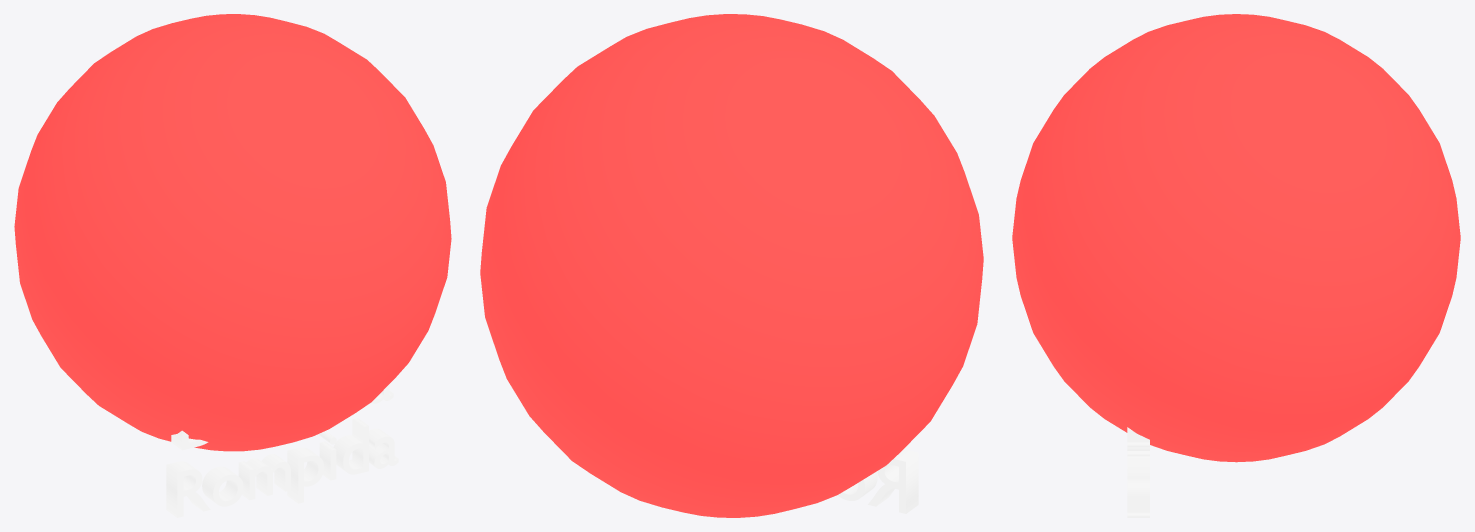
The model's file is correia-dentada-rompida.glb.
3 views of the same model, side by side, from view 1: azimuth 30°, elevation 25°; view 2: azimuth 150°, elevation 25°; view 3: azimuth 270°, elevation 25° (orthographic). The views are drawn at different scales.
Parts seen in each view (by area): view 1: Sphere.027, Text.028; view 2: Sphere.027, Text.028; view 3: Sphere.027, Text.028.
Boxes of the visible parts, x1,y1,x2,y2 form: Sphere.027: (14,14,451,451); Text.028: (166,384,398,517); Sphere.027: (480,14,983,517); Text.028: (838,449,918,513); Sphere.027: (1012,14,1460,462); Text.028: (1127,427,1149,517).
Bounding box in the file's own units: 5.15 × 5.62 × 5.15.
